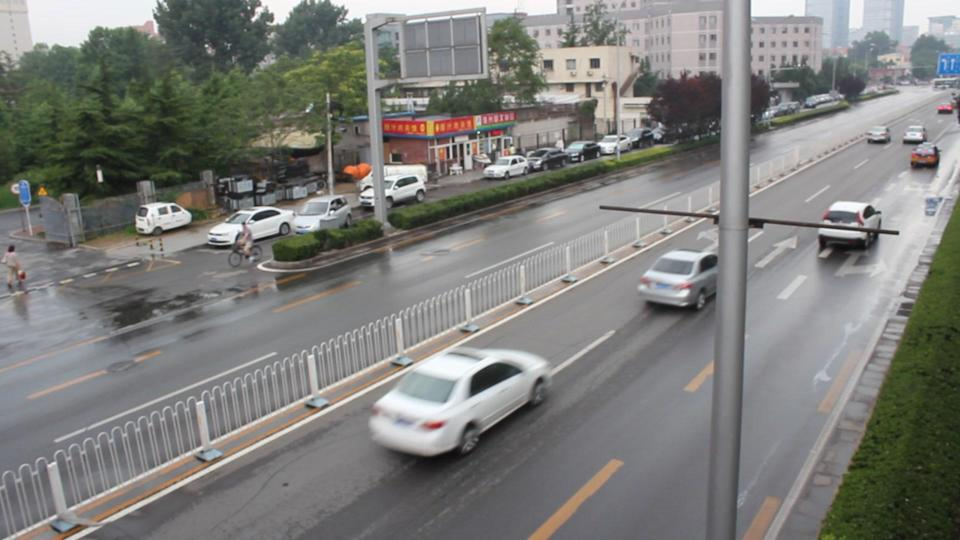Car: (371, 351, 548, 458), (636, 249, 738, 309), (816, 201, 877, 247), (907, 142, 938, 167)
